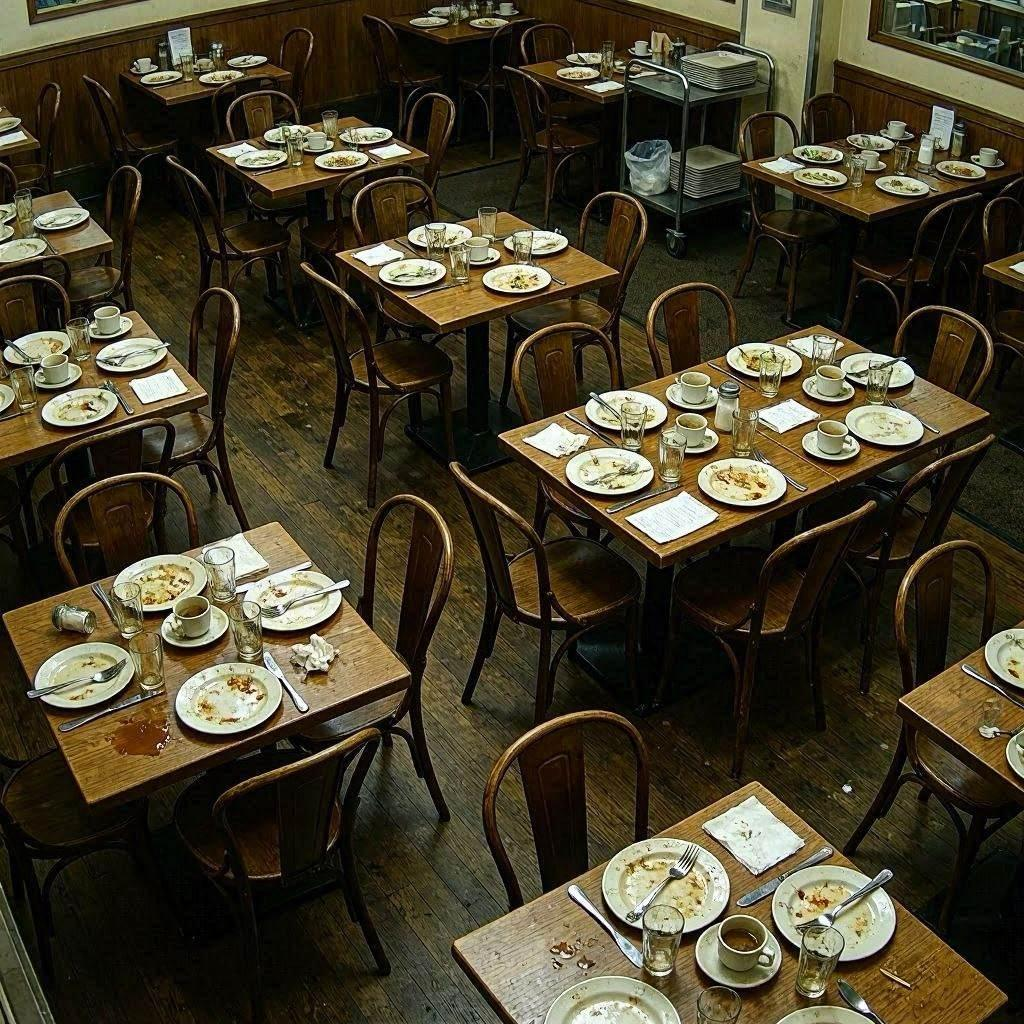dirty: (446, 800, 892, 1023), (7, 532, 418, 749), (499, 345, 935, 528), (320, 202, 594, 311), (7, 293, 177, 455), (753, 122, 989, 215), (199, 113, 418, 186), (117, 38, 277, 96)
